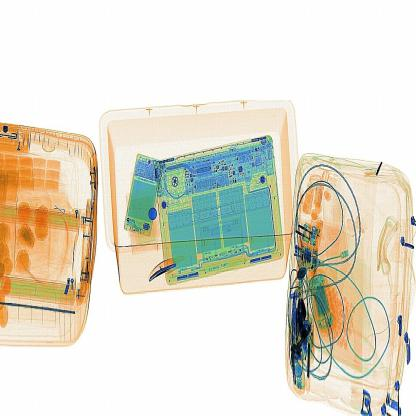pliers: (149, 257, 181, 282)
